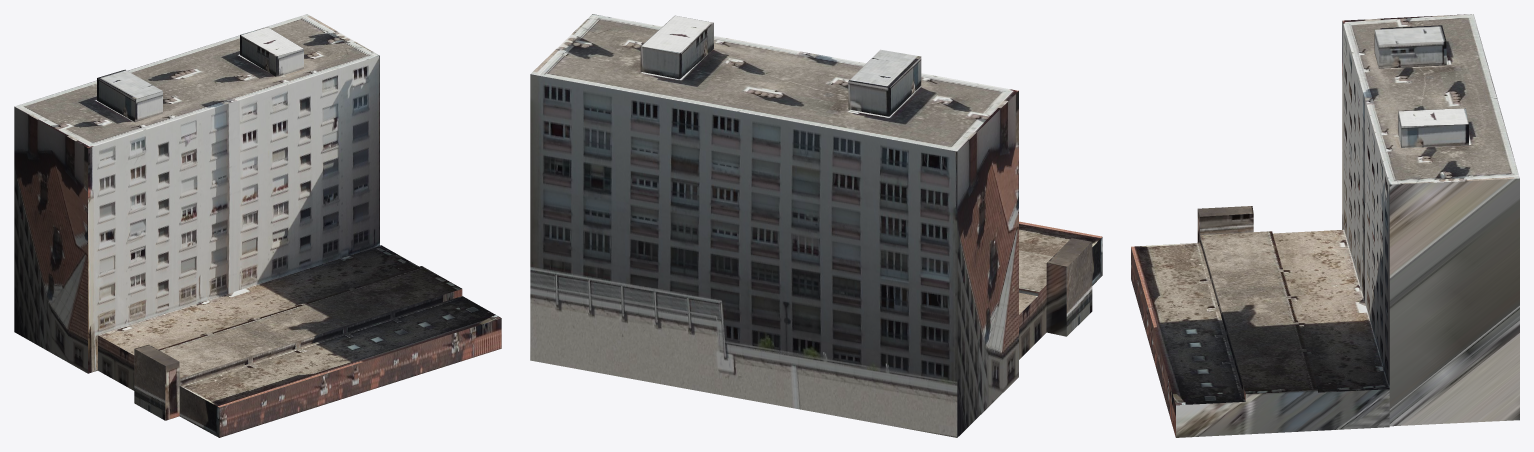
The picture shows the model from 3 angles, left to right: view 1: azimuth 30°, elevation 25°; view 2: azimuth 150°, elevation 25°; view 3: azimuth 270°, elevation 25°; orthographic projection. The views are drawn at different scales.
Visible parts, largest first — view 1: Z_UP; view 2: Z_UP; view 3: Z_UP.
Boxes of the visible parts, x1,y1,x2,y2 form: Z_UP: (14,14,501,437); Z_UP: (530,14,1102,437); Z_UP: (1131,14,1519,437).
Size of the model in its own units: 39.44 by 26.83 by 35.54.
2 materials, 1 textured.
